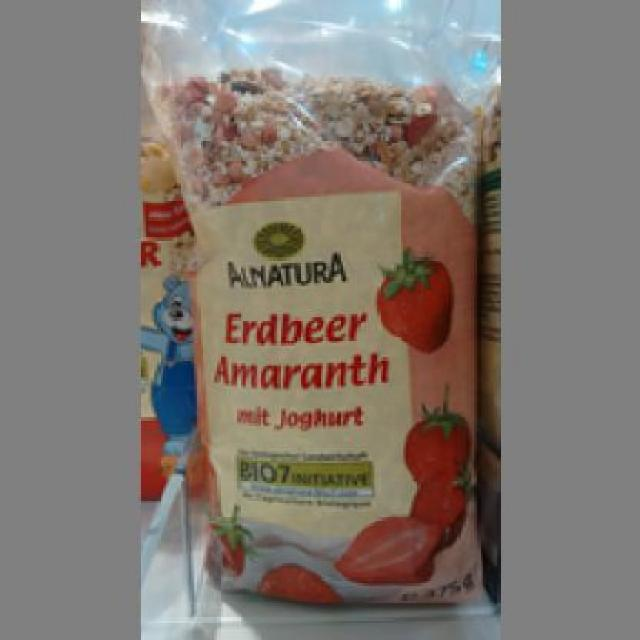Cereal: (137, 60, 486, 606)
